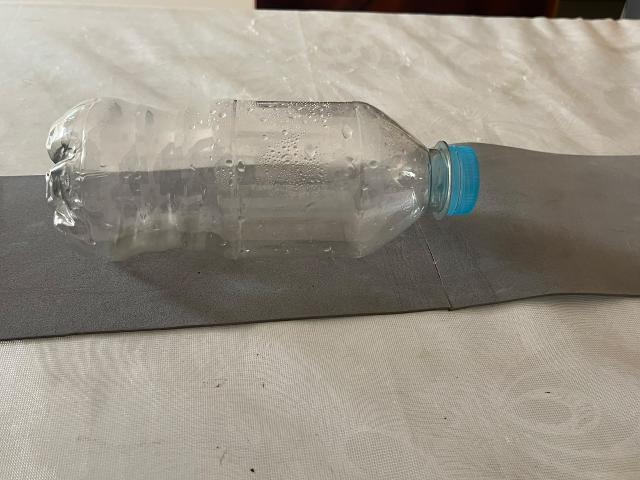PET: (12, 60, 516, 287)
